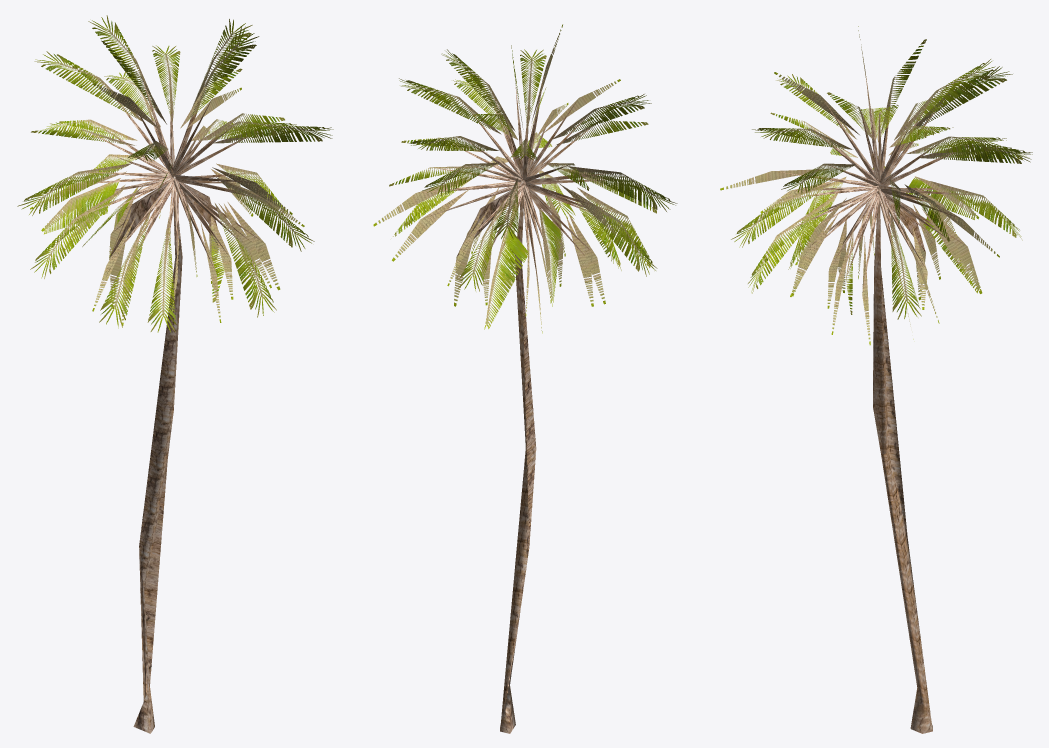
The model's file is palm.lod1.glb.
The picture shows the model from 3 angles, left to right: view 1: azimuth 30°, elevation 25°; view 2: azimuth 150°, elevation 25°; view 3: azimuth 270°, elevation 25°; orthographic projection. The views are drawn at different scales.
Parts seen in each view (by area): view 1: Tree_1_date palm leaf_0, Tree_0_palm02_0; view 2: Tree_1_date palm leaf_0, Tree_0_palm02_0; view 3: Tree_1_date palm leaf_0, Tree_0_palm02_0.
Boxes of the visible parts, <box> form: Tree_1_date palm leaf_0: <box>17,15,333,332</box>; Tree_0_palm02_0: <box>76,81,263,733</box>; Tree_1_date palm leaf_0: <box>373,24,677,333</box>; Tree_0_palm02_0: <box>418,74,616,733</box>; Tree_1_date palm leaf_0: <box>720,26,1032,345</box>; Tree_0_palm02_0: <box>776,74,971,733</box>.
Bounding box in the file's own units: 5.04 × 11.91 × 5.21.
Materials: 2 (2 with a texture image).
